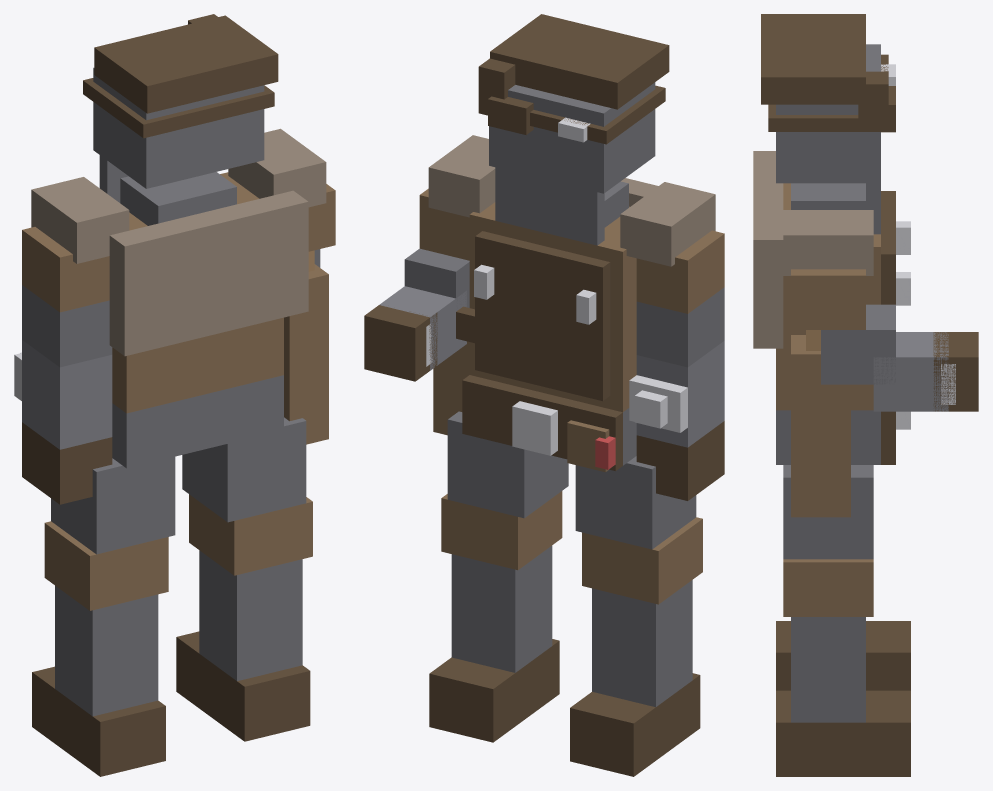
File: voxel_bandit_crossbowman_56px.glb
3 renders of one model, left to right at view 1: azimuth 30°, elevation 25°; view 2: azimuth 150°, elevation 25°; view 3: azimuth 270°, elevation 25°, orthographic. The views are drawn at different scales.
Visible parts, largest first — view 1: fur_mantle_back, hair_messy, shin_right, shin_left, torso_core, head_core, pelvis_core, thigh_left, thigh_right, forearm_right, knee_right, boot_left_heel (+14 smaller); view 2: cuirass_front, hair_messy, shin_left, shin_right, head_core, torso_core, thigh_left, thigh_right, knee_right, knee_left, belt_main, bandana_front (+28 smaller); view 3: hair_messy, quiver_body, shin_left, head_core, boot_left_heel, fur_mantle_back, fur_mantle_shoulder_left, thigh_left, knee_left, forearm_left, upper_arm_left, shoulder_left (+15 smaller).
Boxes of the visible parts, left/top/right/bottom form: fur_mantle_back: left=109, top=190, right=308, bottom=356; hair_messy: left=94, top=15, right=278, bottom=113; shin_right: left=55, top=585, right=158, bottom=716; shin_left: left=199, top=550, right=302, bottom=681; torso_core: left=112, top=172, right=283, bottom=413; head_core: left=93, top=67, right=264, bottom=188; pelvis_core: left=112, top=375, right=283, bottom=468; thigh_left: left=182, top=417, right=306, bottom=522; thigh_right: left=51, top=456, right=175, bottom=554; forearm_right: left=22, top=340, right=112, bottom=449; knee_right: left=44, top=521, right=168, bottom=610; boot_left_heel: left=191, top=646, right=310, bottom=741; cuirass_front: left=475, top=231, right=610, bottom=401; hair_messy: left=490, top=14, right=669, bottom=109; shin_left: left=451, top=545, right=552, bottom=672; shin_right: left=592, top=580, right=692, bottom=707; head_core: left=489, top=82, right=655, bottom=193; torso_core: left=469, top=202, right=636, bottom=412; thigh_left: left=447, top=411, right=568, bottom=518; thigh_right: left=575, top=456, right=696, bottom=549; knee_right: left=582, top=517, right=702, bottom=604; knee_left: left=441, top=491, right=562, bottom=570; belt_main: left=462, top=375, right=622, bottom=470; bandana_front: left=495, top=167, right=604, bottom=245; hair_messy: left=761, top=14, right=865, bottom=104; quiver_body: left=791, top=335, right=850, bottom=517; shin_left: left=791, top=617, right=865, bottom=722; head_core: left=776, top=44, right=880, bottom=183; boot_left_heel: left=776, top=690, right=880, bottom=776; fur_mantle_back: left=753, top=151, right=783, bottom=348; fur_mantle_shoulder_left: left=783, top=210, right=873, bottom=275; thigh_left: left=783, top=465, right=873, bottom=559; knee_left: left=783, top=559, right=873, bottom=616; forearm_left: left=873, top=332, right=948, bottom=411; upper_arm_left: left=821, top=304, right=895, bottom=384; shoulder_left: left=791, top=269, right=865, bottom=329.
Size of the model in its own units: 0.6563 by 1.56 by 0.4688.
